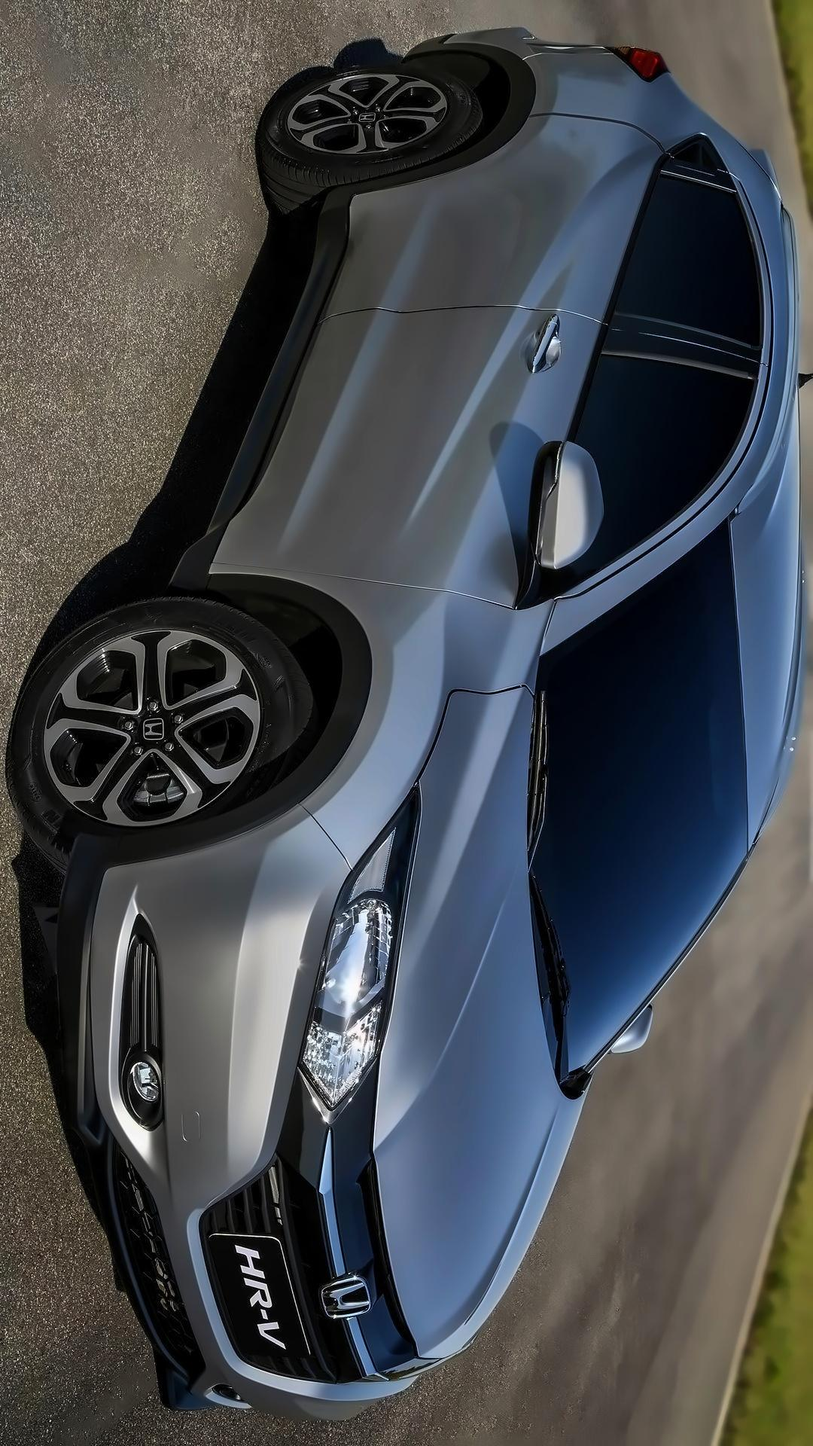Car hood: (364, 658, 580, 1365)
Driver-s door - -F-R-: (171, 294, 779, 631)
Fender - -F-R-: (211, 538, 582, 870)
Front bumper: (50, 799, 388, 1443)
Headlight - -R-: (294, 789, 424, 1117)
Passenger-s door - -R-R-: (251, 86, 813, 370)
Side bumper - -R-: (131, 143, 411, 609)
Side mirror - -R-: (507, 435, 596, 606)
